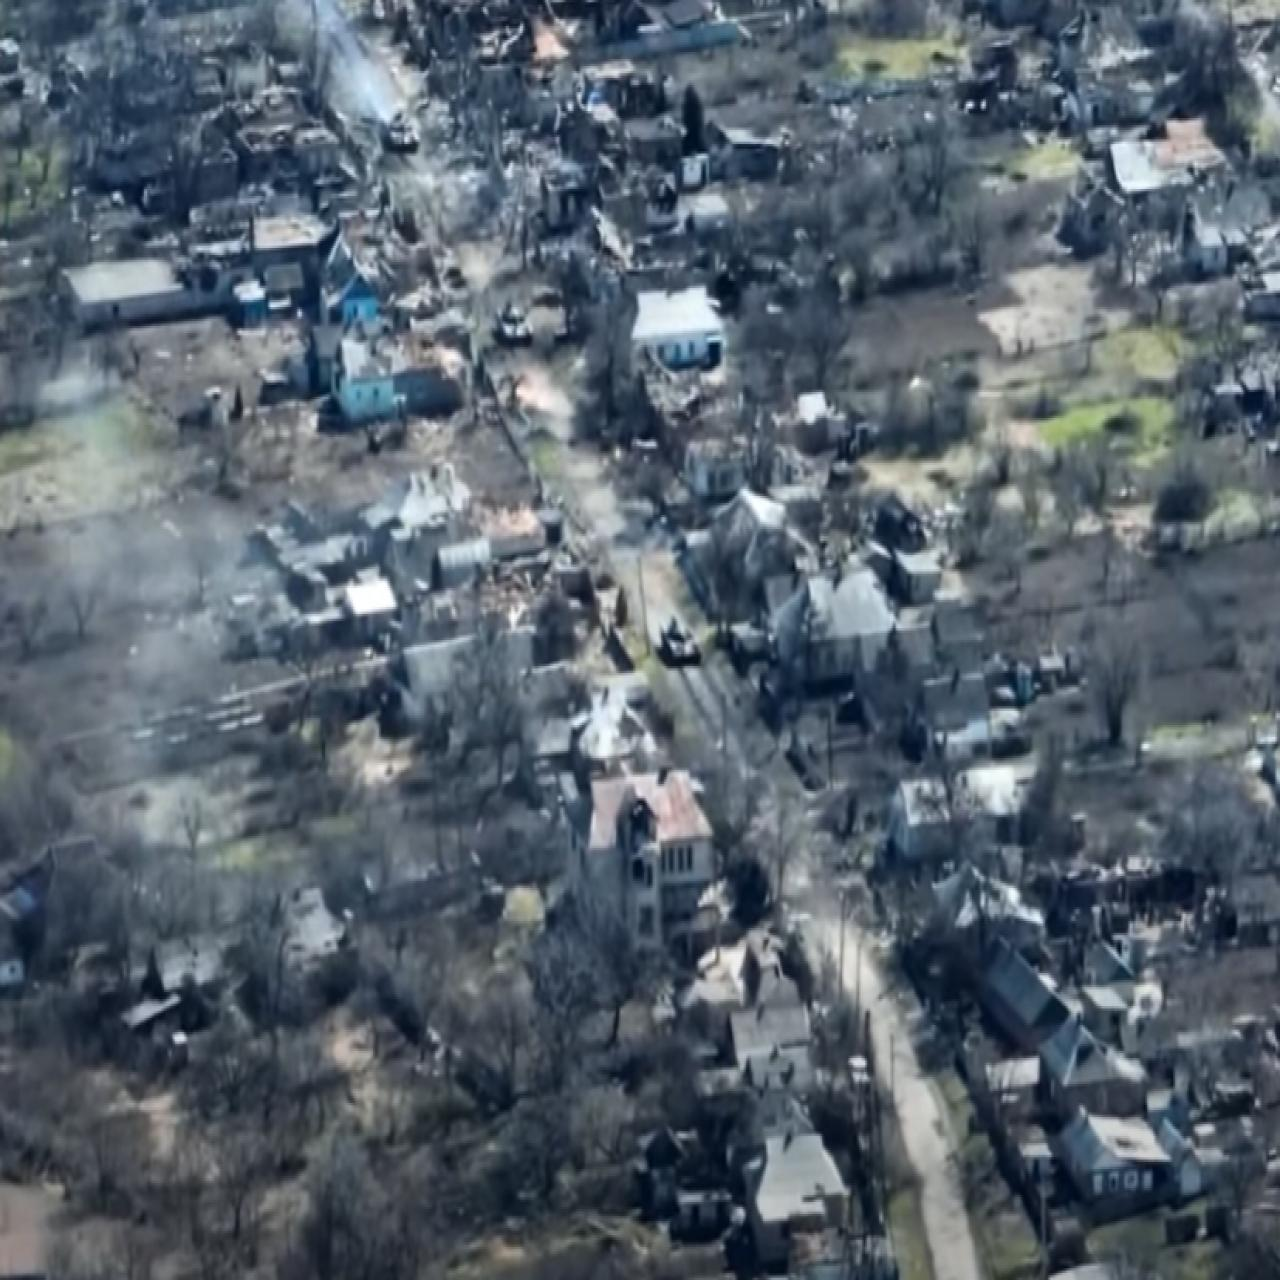MIL_Veh: (658, 612, 706, 669), (494, 291, 536, 346), (378, 106, 422, 152)
